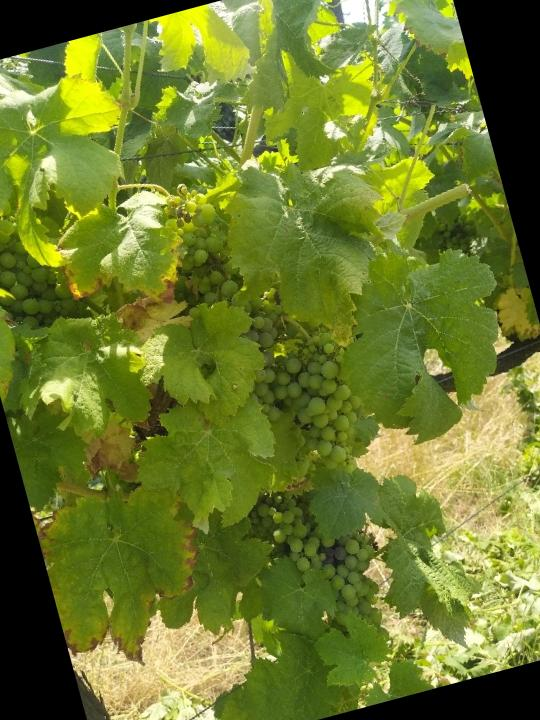grape: (245, 332, 380, 500)
